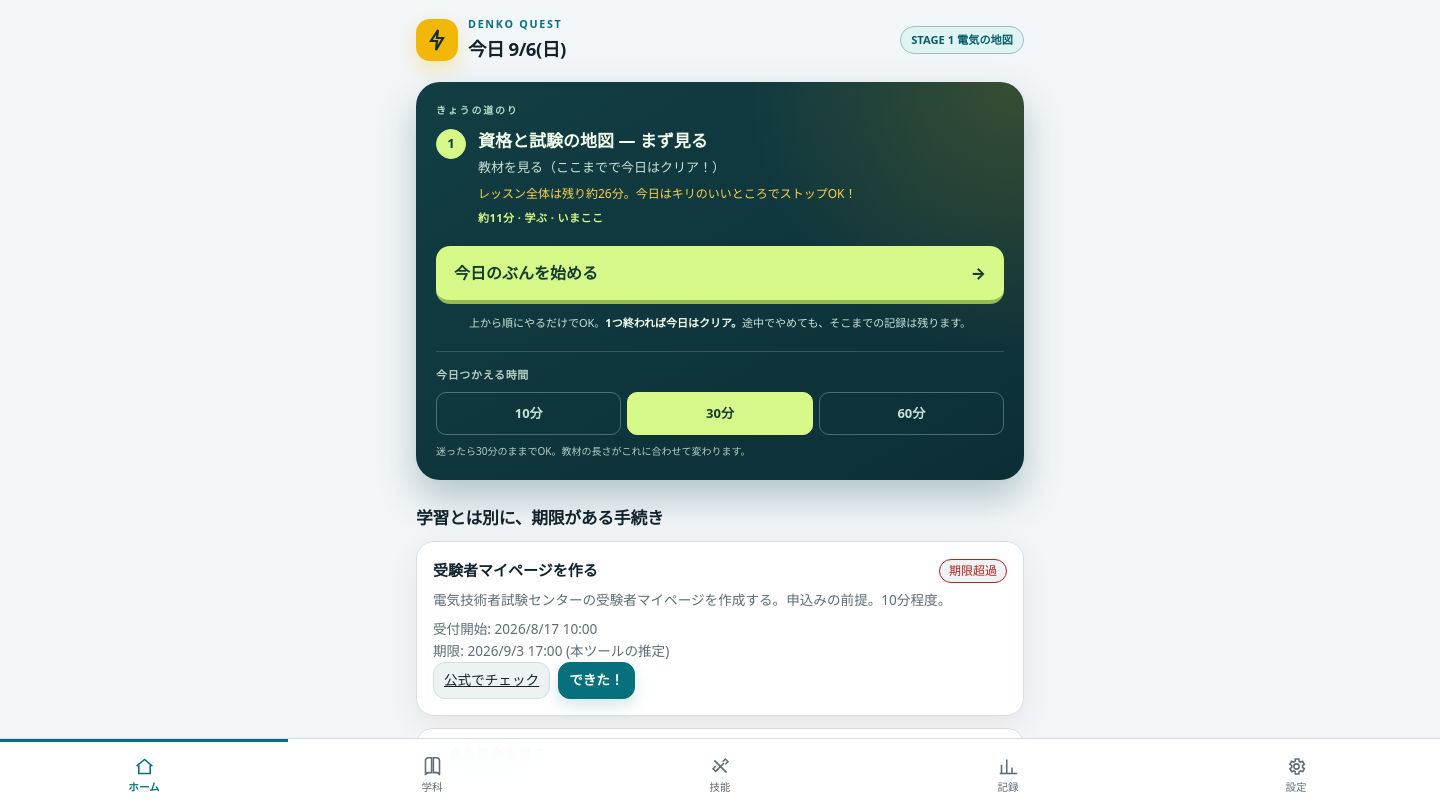
Test: 技能: 反復欠陥から抜け出せる › 複線図込みの合計時間が記録画面に出る
The width and height of the screenshot is (1440, 810).
Click the button "技能" at x=720, y=775, box 576,739 -> 864,809
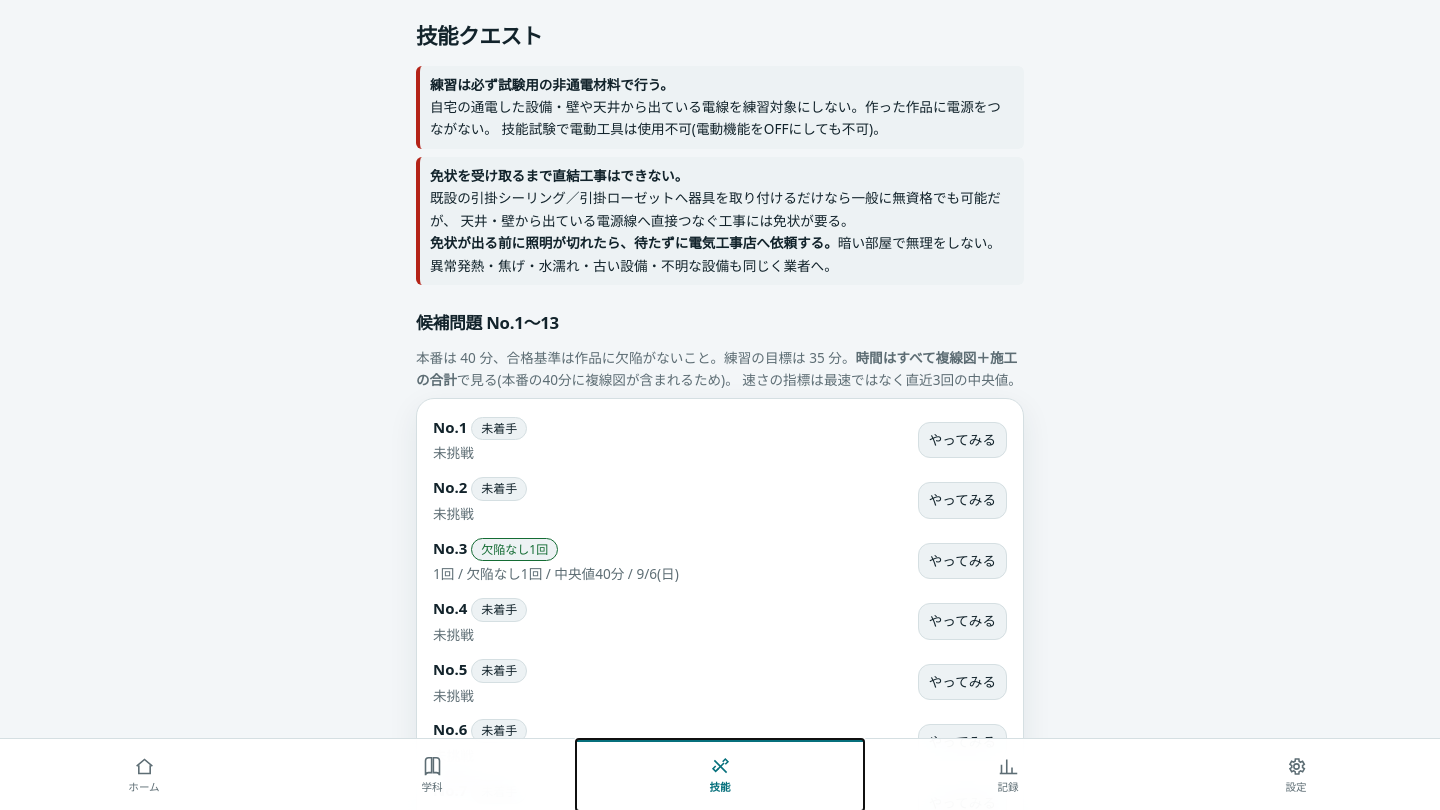
Expected: the text "1回 / 欠陥なし1回 / 中央値40分 / 9/6(日)" is shown, 433,564 -> 679,583
